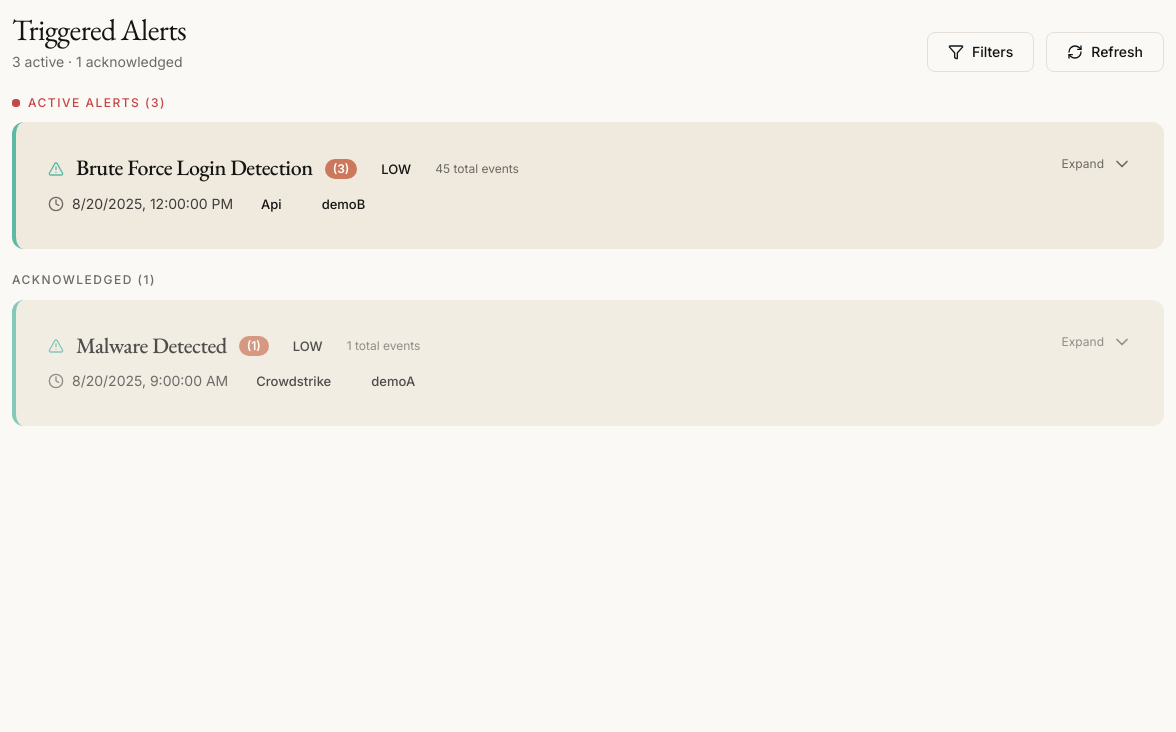
Test: AlertTriggered Page › collapses a group back to a single card
Expected: the text "(3)" is shown, [325, 159, 357, 179]
What coordinates should you click on to do the following:
click the button "Brute Force Login Detection"
I would click on:
 (194, 168)
Its box is [48, 154, 1132, 217].
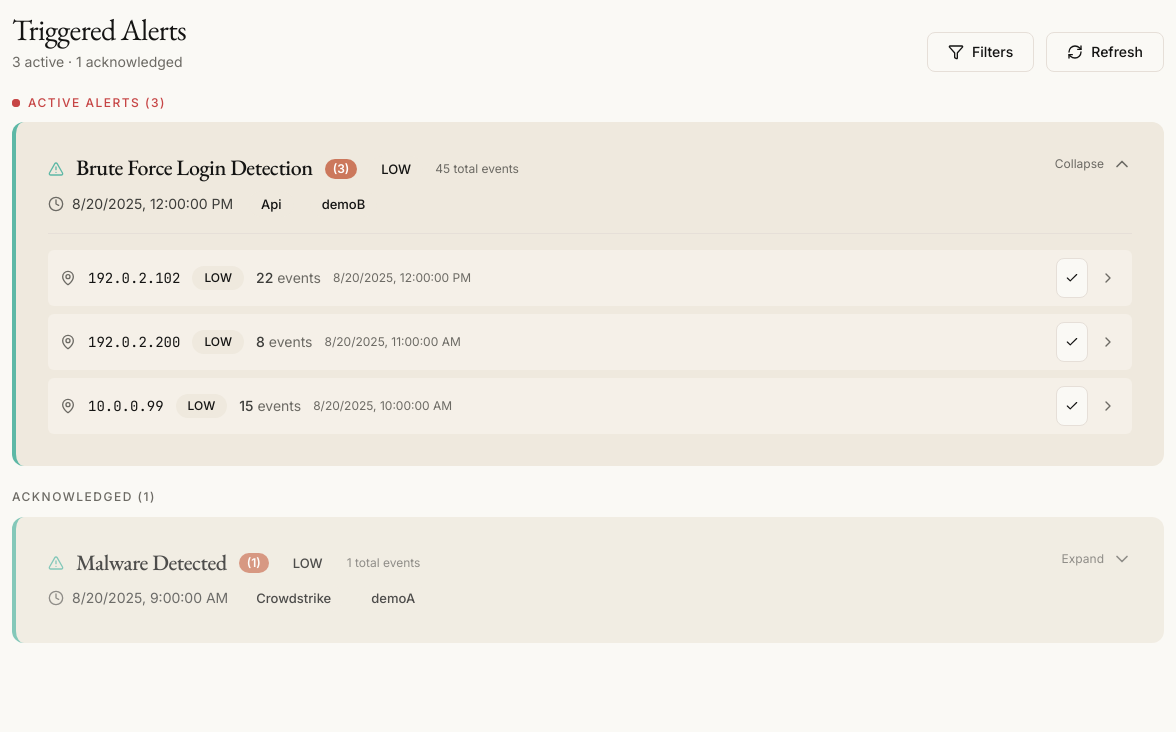
Now the text "10.0.0.99" is shown, box [88, 396, 164, 416]
What coordinates should you click on to do the following:
click the button "Brute Force Login Detection"
I would click on:
 (194, 168)
Its box is [48, 154, 1132, 217].
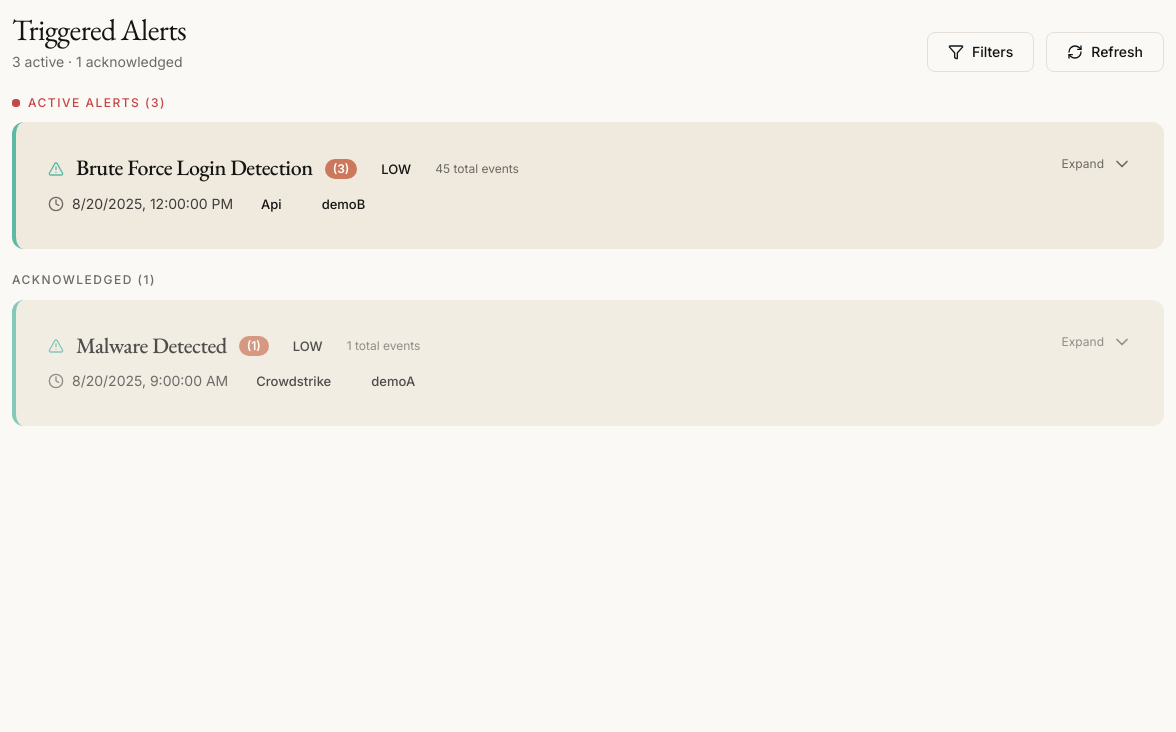
Now the text "10.0.0.99" is gone
